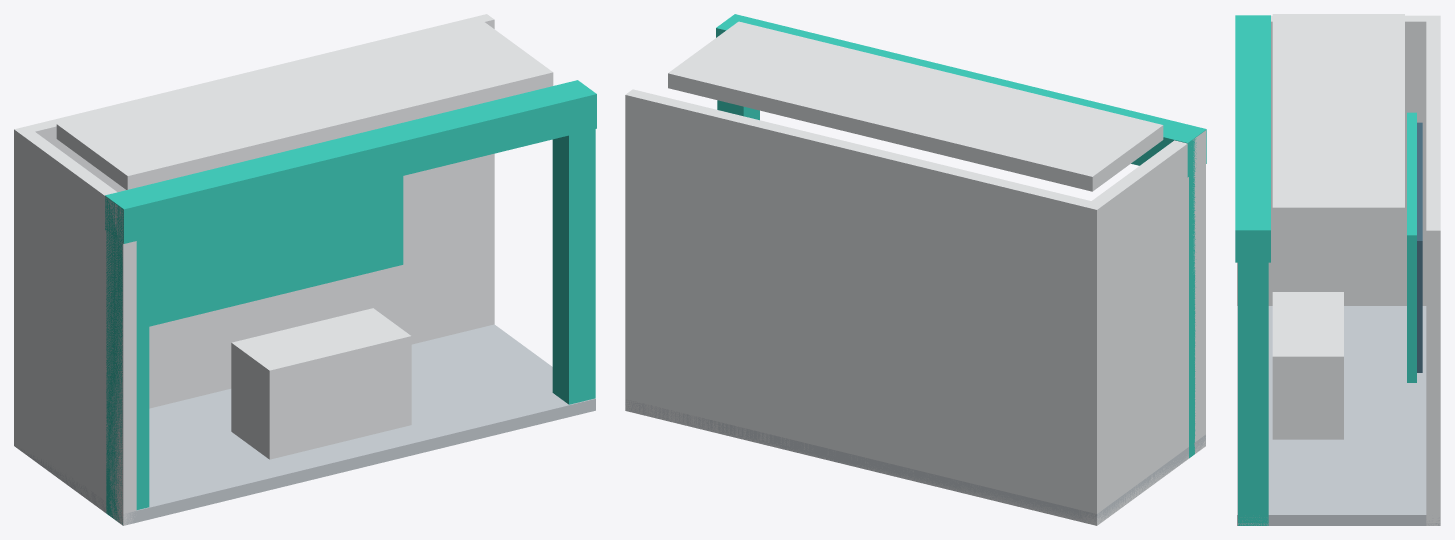
3 renders of one model, left to right at view 1: azimuth 30°, elevation 25°; view 2: azimuth 150°, elevation 25°; view 3: azimuth 270°, elevation 25°, orthographic. The views are drawn at different scales.
Parts seen in each view (by area): view 1: Exhibition Booth Concept; view 2: Exhibition Booth Concept; view 3: Exhibition Booth Concept.
Boxes of the visible parts, x1,y1,x2,y2 form: Exhibition Booth Concept: [14, 14, 596, 525]; Exhibition Booth Concept: [625, 14, 1206, 525]; Exhibition Booth Concept: [1235, 14, 1440, 525].
Bounding box in the file's own units: 5 × 3.34 × 2.01.
